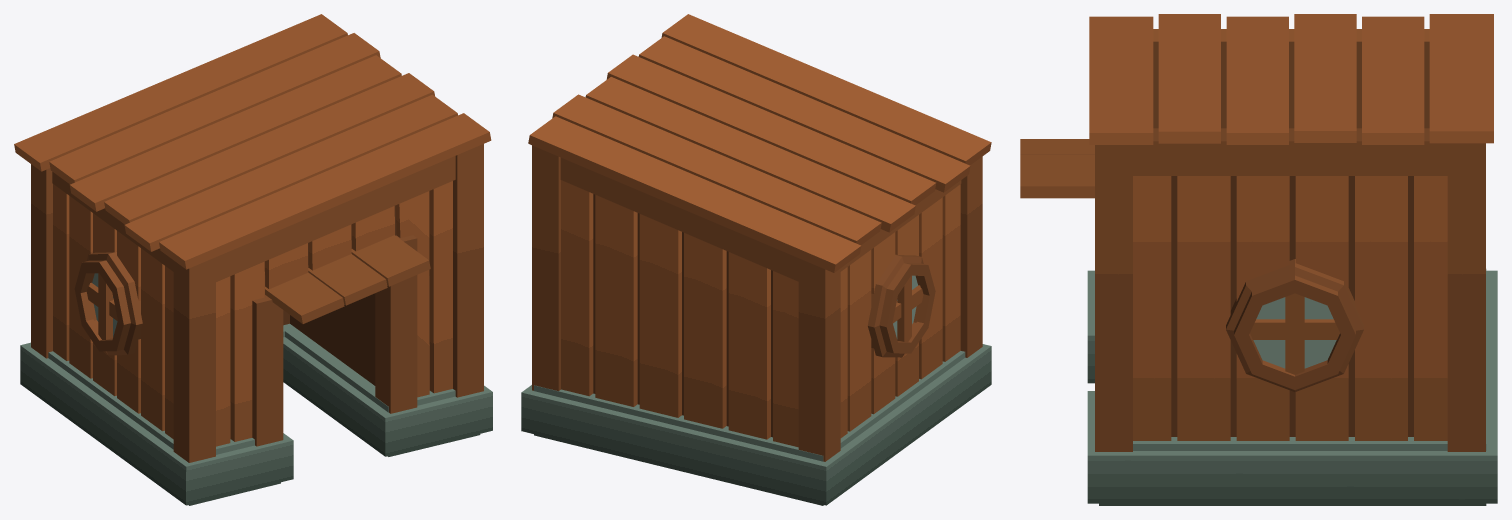
The model's file is house.fbx.
The picture shows the model from 3 angles, left to right: view 1: azimuth 30°, elevation 25°; view 2: azimuth 150°, elevation 25°; view 3: azimuth 270°, elevation 25°; orthographic projection. The views are drawn at different scales.
Visible parts, largest first — view 1: Circle; view 2: Circle; view 3: Circle.
Boxes of the visible parts, x1,y1,x2,y2 form: Circle: (14, 14, 492, 505); Circle: (521, 14, 991, 505); Circle: (1020, 14, 1497, 505).
Size of the model in its own units: 474 by 434 by 500.
